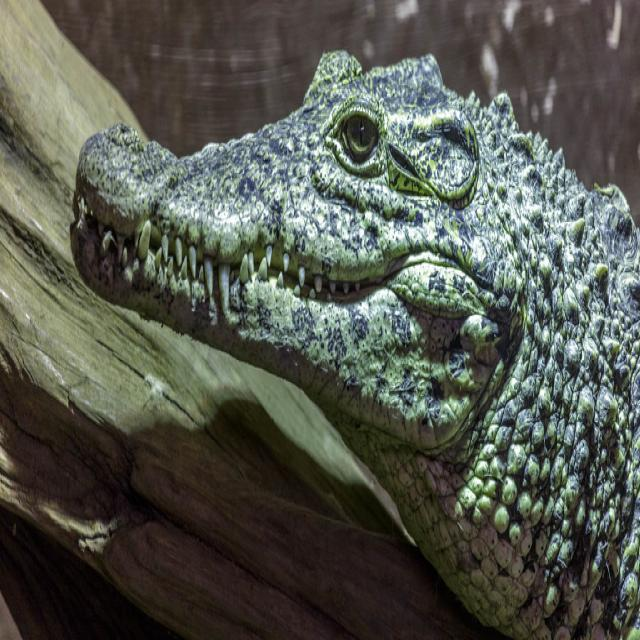crocodile: (15, 29, 639, 639)
